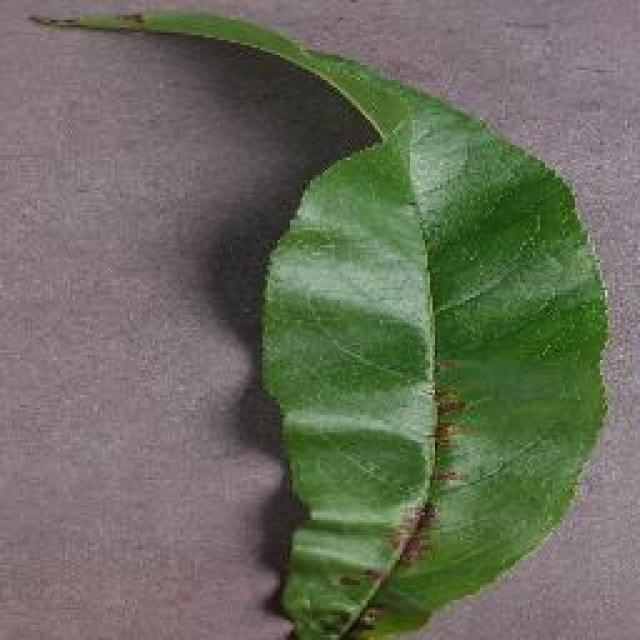Peach_Bacterial_Spot: (335, 331, 510, 640)
